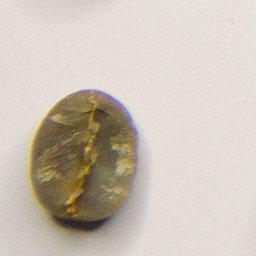premium: (27, 85, 141, 225)
